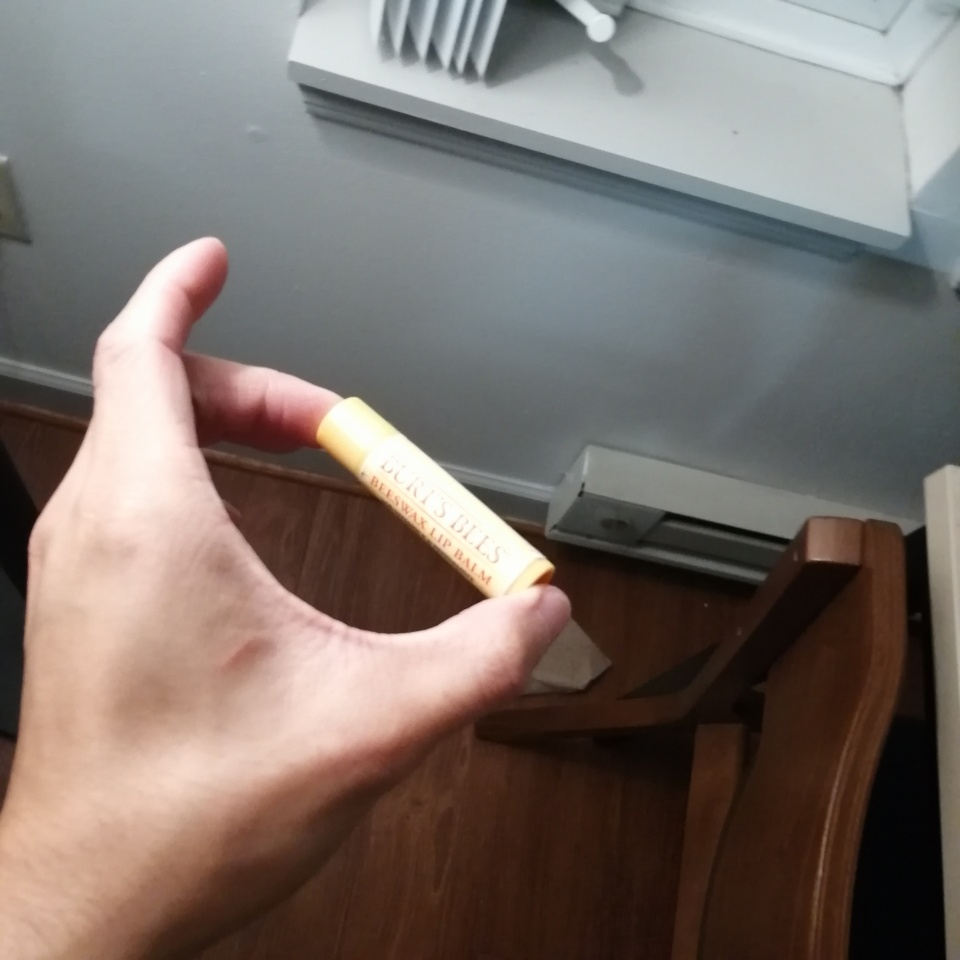chapstick: (315, 395, 556, 600)
